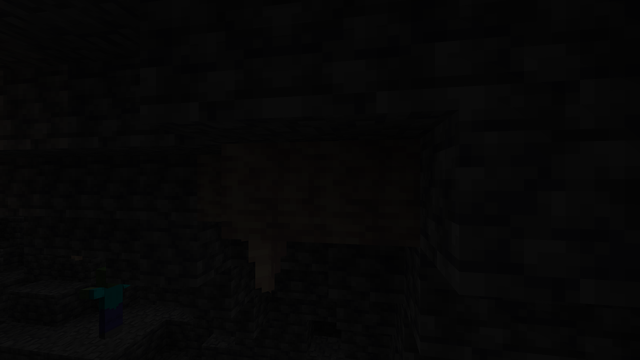zombies: (92, 268, 128, 340)
